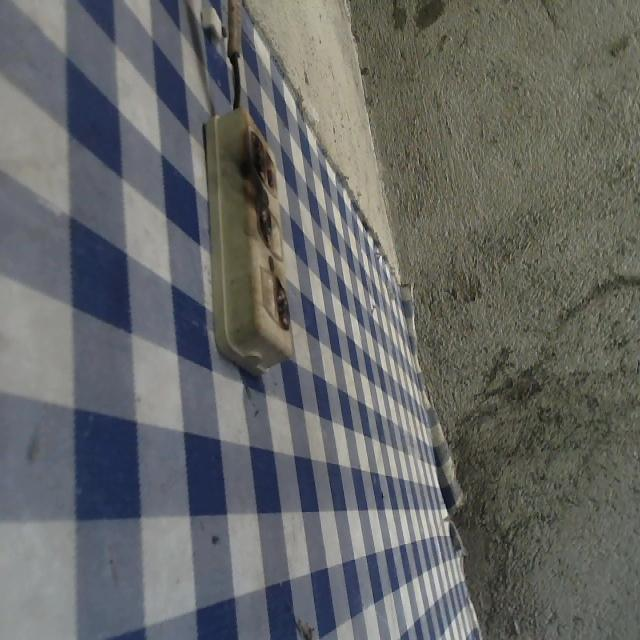-: (246, 129, 278, 191), (252, 192, 276, 251), (273, 272, 292, 331)
